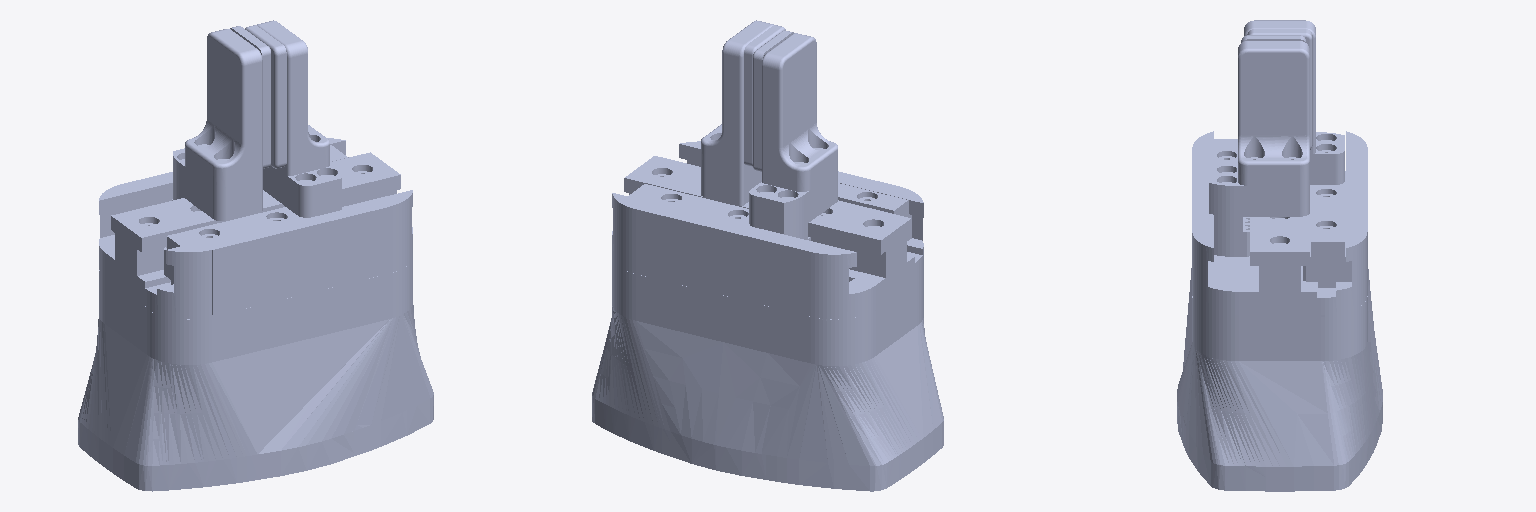
URDF robot description (total_assembly_gripper):
<?xml version="1.0" encoding="utf-8"?>

<robot
  name="total_assembly_gripper">
  <link
    name="base_link">
    <inertial>
      <origin
        xyz="-0.0871693767248801 0.10322048386061 -0.155282503181971"
        rpy="0 0 0" />
      <mass
        value="0.1484422456467" />
      <inertia
        ixx="7.38847299024426E-05"
        ixy="7.57384716544964E-08"
        ixz="1.91183189298623E-07"
        iyy="0.000137267462403326"
        iyz="4.10314200131229E-06"
        izz="0.000143824540405122" />
    </inertial>
    <visual>
      <origin
        xyz="0 0 0"
        rpy="0 0 0" />
      <geometry>
        <mesh
          filename="package://total_assembly_gripper/meshes/base_link.STL" />
      </geometry>
      <material
        name="">
        <color
          rgba="0.792156862745098 0.819607843137255 0.933333333333333 1" />
      </material>
    </visual>
    <collision>
      <origin
        xyz="0 0 0"
        rpy="0 0 0" />
      <geometry>
        <mesh
          filename="package://total_assembly_gripper/meshes/base_link.STL" />
      </geometry>
    </collision>
  </link>


  <link
    name="link_1">
    <inertial>
      <origin
        xyz="0.012667 0.096531 -0.035979"
        rpy="0 0 0" />
      <mass
        value="0.012936" />
      <inertia
        ixx="1.566E-06"
        ixy="1.2306E-09"
        ixz="1.0995E-07"
        iyy="1.7414E-06"
        iyz="1.7898E-09"
        izz="1.2602E-06" />
    </inertial>
    <visual>
      <origin
        xyz="0 0 0"
        rpy="0 0 0" />
      <geometry>
        <mesh
          filename="package://total_assembly_gripper/meshes/link_1.STL" />
      </geometry>
      <material
        name="">
        <color
          rgba="0.79216 0.81961 0.93333 1" />
      </material>
    </visual>
    <collision>
      <origin
        xyz="0 0 0"
        rpy="0 0 0" />
      <geometry>
        <mesh
          filename="package://total_assembly_gripper/meshes/link_1.STL" />
      </geometry>
    </collision>
  </link>


  <joint
    name="joint_1"
    type="prismatic">
    <origin
      xyz="-0.07023 0.001966 -0.13298"
      rpy="3.1416 0 3.1416" />
    <parent
      link="base_link" />
    <child
      link="link_1" />
    <axis
      xyz="-1 0 0" />
    <limit
      lower="0"
      upper="0.018"
      effort="100"
      velocity="3" />
  </joint>


  <link
    name="link_2">
    <inertial>
      <origin
        xyz="-0.041338 0.096531 -0.035979"
        rpy="0 0 0" />
      <mass
        value="0.012936" />
      <inertia
        ixx="1.566E-06"
        ixy="1.2306E-09"
        ixz="1.0995E-07"
        iyy="1.7414E-06"
        iyz="1.7898E-09"
        izz="1.2602E-06" />
    </inertial>
    <visual>
      <origin
        xyz="0 0 0"
        rpy="0 0 0" />
      <geometry>
        <mesh
          filename="package://total_assembly_gripper/meshes/link_2.STL" />
      </geometry>
      <material
        name="">
        <color
          rgba="0.79216 0.81961 0.93333 1" />
      </material>
    </visual>
    <collision>
      <origin
        xyz="0 0 0"
        rpy="0 0 0" />
      <geometry>
        <mesh
          filename="package://total_assembly_gripper/meshes/link_2.STL" />
      </geometry>
    </collision>
  </link>


  <joint
    name="joint_2"
    type="prismatic">
    <origin
      xyz="-0.053234 0.20419 -0.13298"
      rpy="3.1416 0 0" />
    <parent
      link="base_link" />
    <child
      link="link_2" />
    <axis
      xyz="1 0 0" />
    <limit
      lower="-0.018"
      upper="0"
      effort="100"
      velocity="3" />
    <mimic
      joint="joint_1"
      multiplier="-1"
      offset="0" />
  </joint>
</robot>

--- Facts derived from the render (not from the file) ---
Views: 3 orthographic renders of the robot side by side, from view 1: azimuth 30°, elevation 25°; view 2: azimuth 150°, elevation 25°; view 3: azimuth 270°, elevation 25°.
Robot: total_assembly_gripper — 3 links, 2 joints (2 prismatic); root link base_link; default pose: every joint at zero.
Links seen in each view (by area): view 1: base_link, link_2, link_1; view 2: base_link, link_2, link_1; view 3: base_link, link_1, link_2.
Link boxes in pixels (x1,y1,x2,y2): base_link: (78, 138, 433, 491); link_2: (172, 26, 348, 220); link_1: (164, 20, 341, 284); base_link: (592, 141, 943, 491); link_2: (628, 30, 837, 240); link_1: (701, 20, 911, 240); base_link: (1177, 131, 1382, 491); link_1: (1209, 35, 1309, 256); link_2: (1244, 20, 1351, 287).
Size in the robot's own frame: 0.0983 by 0.06 by 0.124 metres.
Meshes: 3 distinct files referenced, 3 mesh visuals loaded (3 binary STL).